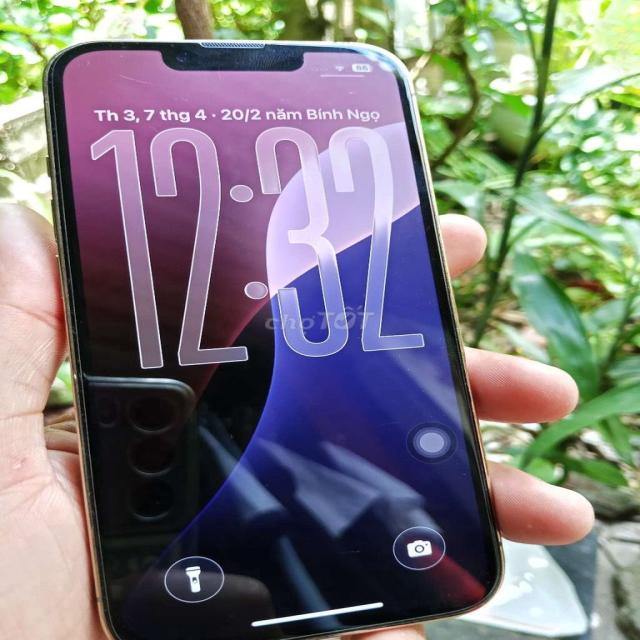gen_12_13: (38, 40, 510, 636)
